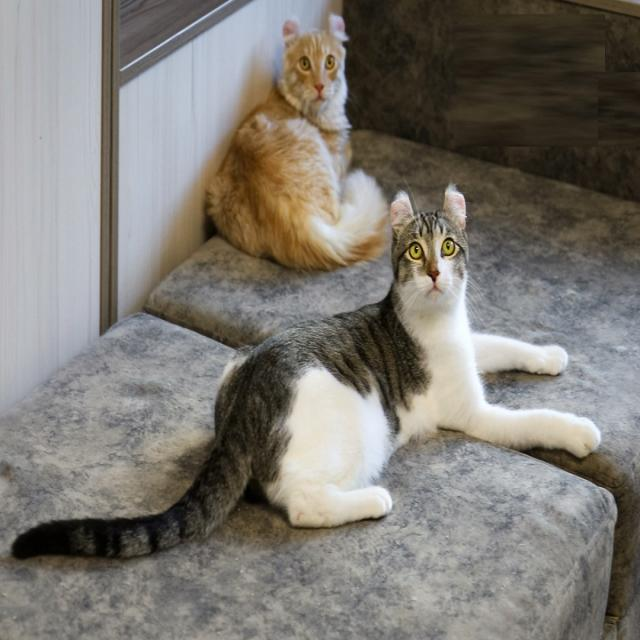American Curl: (8, 184, 606, 564), (202, 9, 389, 270)
